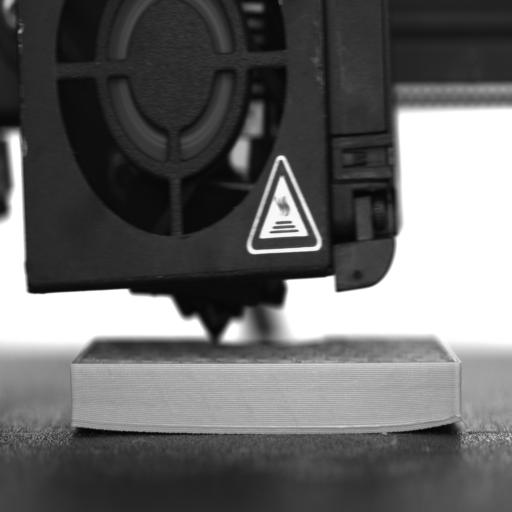warp: (396, 404, 469, 440), (64, 412, 132, 445)
